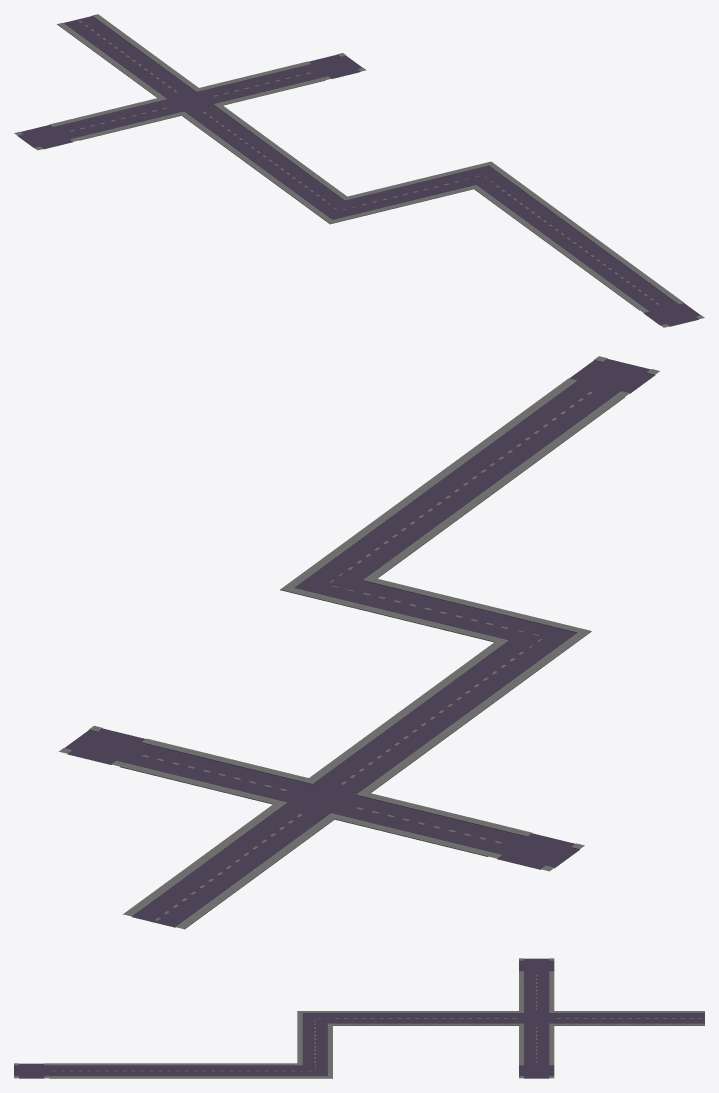
File: roads-V3.FBX
3 views of the same model, one above another, from view 1: azimuth 30°, elevation 25°; view 2: azimuth 150°, elevation 25°; view 3: azimuth 270°, elevation 25° (orthographic). The views are drawn at different scales.
Parts seen in each view (by area): view 1: road_straight_mesh028; view 2: road_straight_mesh028; view 3: road_straight_mesh028.
Boxes of the visible parts, x1=… form: road_straight_mesh028: x1=14, y1=14, x2=704, y2=327; road_straight_mesh028: x1=59, y1=356, x2=659, y2=929; road_straight_mesh028: x1=14, y1=958, x2=704, y2=1078.
Bounding box in the file's own units: 4661 × 5.67 × 11360.
1 material, 1 textured.
